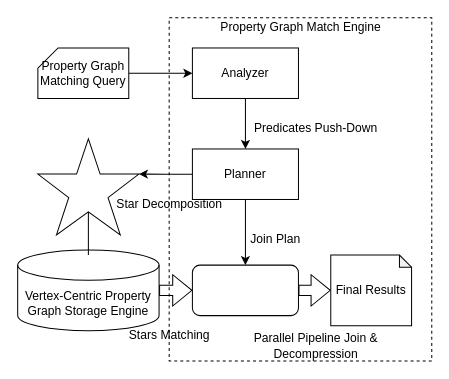
Some shapes in this 449 by 379 pixel diagram are drawn without their labels. Here are the shapes that lost their labels. From the top down, the centre of each, then its label:
At (88,186): "Stars".
At (244,290): "Compressed Matching Results".
